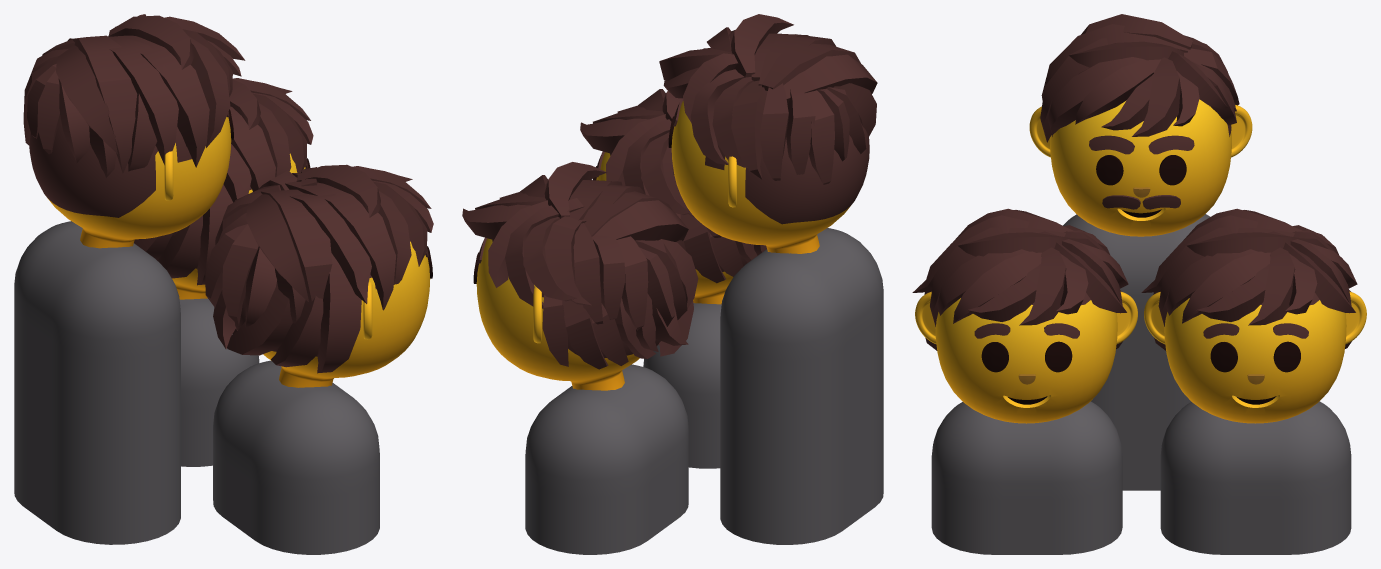
Rendered from Family Man Boy Boy.gltf.
3 views of the same model, side by side, from view 1: azimuth 30°, elevation 25°; view 2: azimuth 150°, elevation 25°; view 3: azimuth 270°, elevation 25° (orthographic). The views are drawn at different scales.
Visible parts, largest first — view 1: Sphere.330, Cube.5402, Sphere.331, Cube.5381, Roundcube.400, Cube.5349, Sphere.329, Roundcube.401, Roundcube.399; view 2: Sphere.330, Cube.5349, Sphere.329, Cube.5381, Roundcube.400, Cube.5402, Roundcube.399, Sphere.331, Roundcube.401; view 3: Sphere.329, Sphere.331, Cube.5381, Cube.5349, Cube.5402, Roundcube.399, Roundcube.401, Roundcube.400, Sphere.330, Cylinder.326, Cylinder.324, Circle.1668 (+7 smaller).
Boxes of the visible parts, x1,y1,x2,y2 form: Sphere.330: (14, 221, 180, 544); Cube.5402: (205, 164, 433, 373); Sphere.331: (213, 360, 379, 554); Cube.5381: (23, 14, 245, 177); Roundcube.400: (29, 117, 231, 248); Cube.5349: (134, 78, 313, 285); Sphere.329: (179, 298, 259, 466); Roundcube.401: (263, 240, 430, 387); Roundcube.399: (157, 152, 305, 299); Sphere.330: (720, 228, 883, 544); Cube.5349: (462, 162, 698, 369); Sphere.329: (525, 364, 688, 554); Cube.5381: (659, 14, 877, 184); Roundcube.400: (671, 101, 869, 253); Cube.5402: (580, 89, 766, 283); Roundcube.399: (476, 238, 639, 390); Sphere.331: (643, 303, 721, 468); Roundcube.401: (596, 152, 747, 304); Sphere.329: (1160, 401, 1351, 554); Sphere.331: (931, 401, 1122, 554); Cube.5381: (1040, 14, 1239, 142); Cube.5349: (1141, 208, 1357, 350); Cube.5402: (912, 208, 1128, 350); Roundcube.399: (1164, 292, 1346, 423); Roundcube.401: (935, 293, 1117, 423); Roundcube.400: (1050, 99, 1231, 236); Sphere.330: (1063, 214, 1209, 490); Cylinder.326: (915, 291, 1137, 344); Cylinder.324: (1144, 291, 1366, 344); Circle.1668: (1096, 155, 1186, 185).
Bounding box in the file's own units: 1.9 × 2.57 × 2.37.
5 materials, 1 textured.
